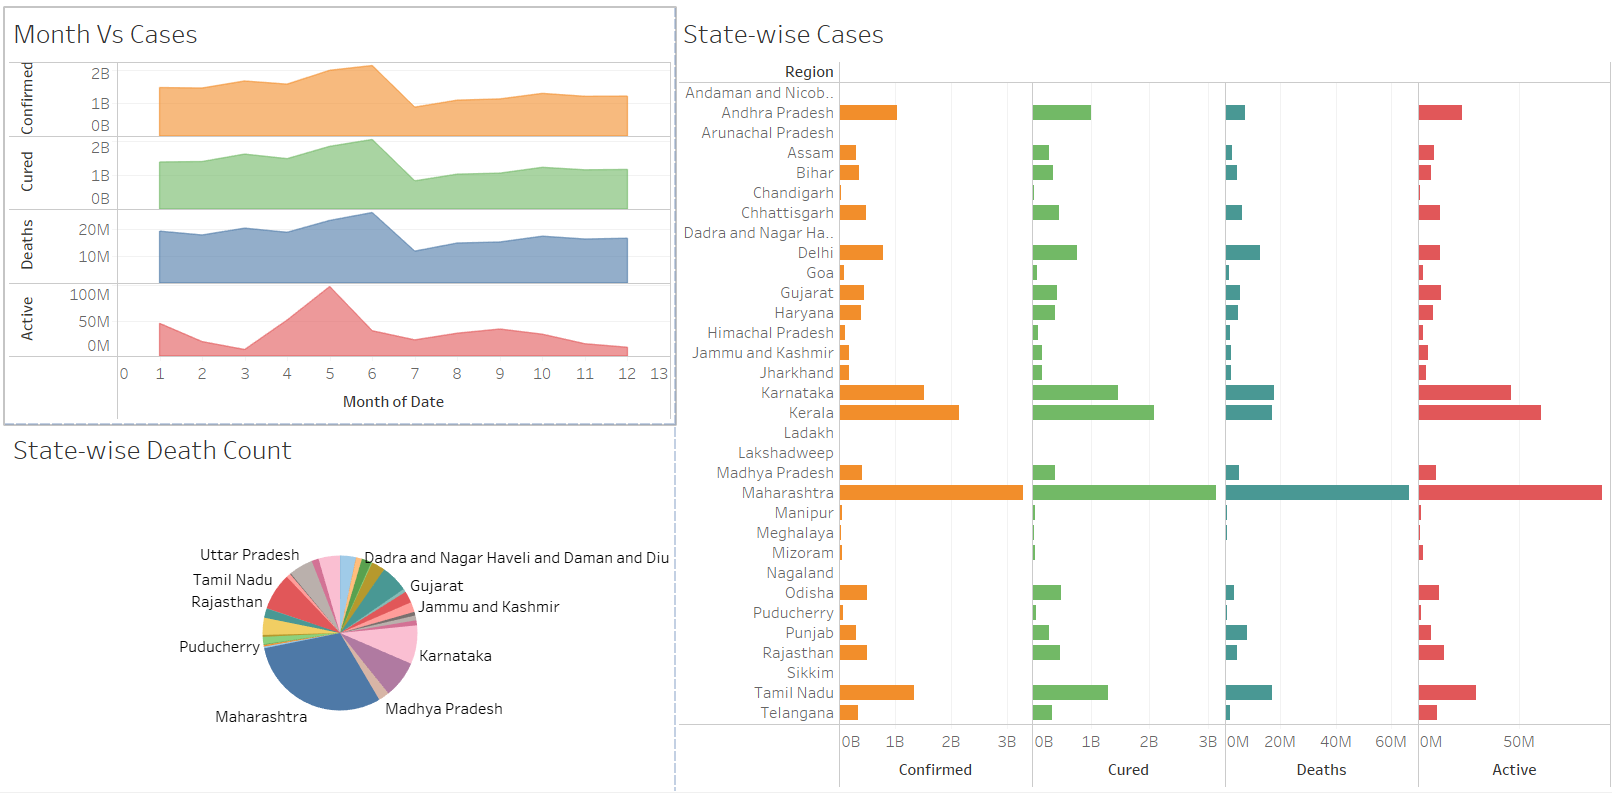

The page's visual inventory and layout, read from the dashboard file:
{"tool":"tableau","page":{"name":"Dashboard 1","canvas":[1800,800],"ordinal":0},"visuals":[{"type":"worksheet","title":"Month Vs Cases","mark":"Area","rows":["confirmed","cured","deaths","active"],"cols":["date"],"box":[8,8,670,416]},{"type":"worksheet","title":"State-wise Cases","mark":"Automatic","rows":["region"],"cols":["confirmed","cured","deaths","active"],"box":[678,8,1114,784]},{"type":"worksheet","title":"State-wise Death Count","mark":"Pie","box":[8,424,670,368]}]}

Visuals, with their boxes on the page's 1800x800 design canvas (x1, y1, x2, y2). These are canvas units, not pixel positions in the 1612x793 screenshot, which may show the page scaled, cropped or inside an application window:
"Month Vs Cases" worksheet (Area marks): 8/8/678/424
"State-wise Cases" worksheet: 678/8/1792/792
"State-wise Death Count" worksheet (Pie marks): 8/424/678/792
